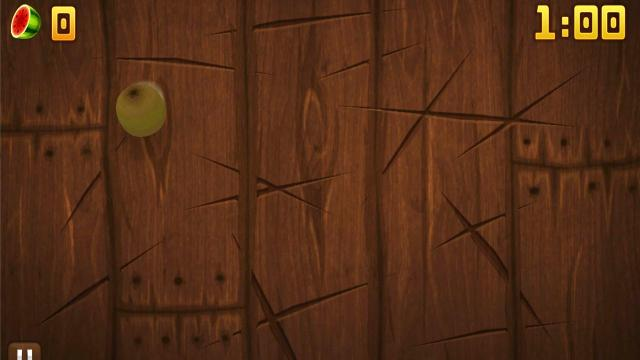fruit: (114, 82, 166, 138)
ignore: (9, 3, 43, 41)
